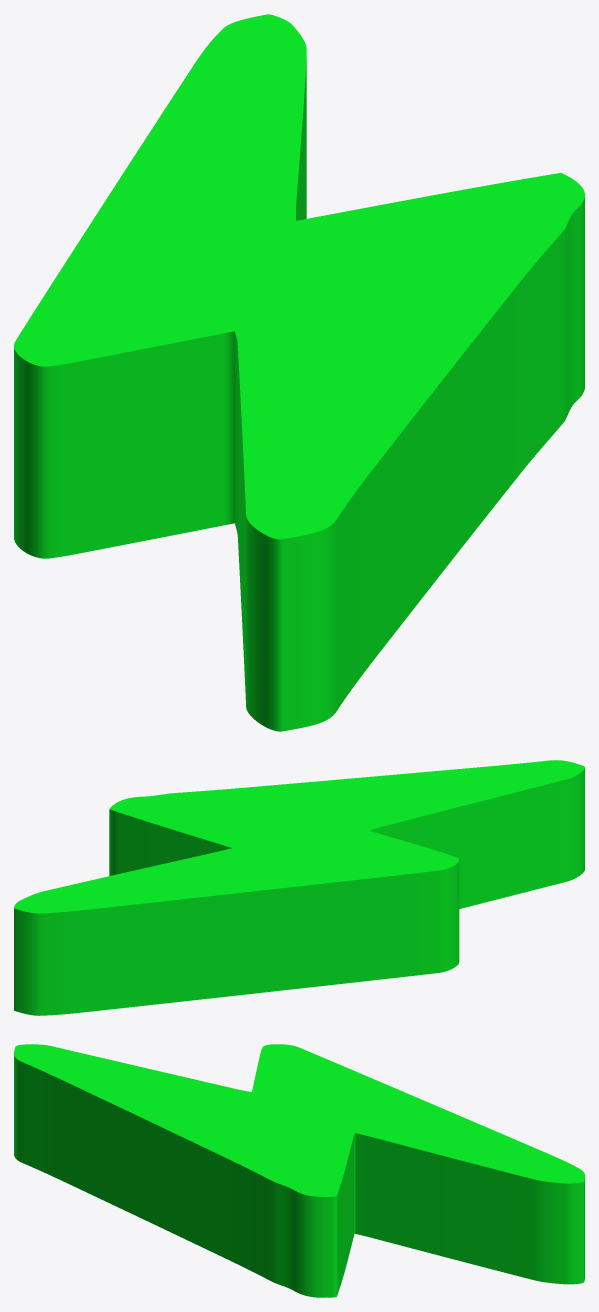
File: life_bank_icon.glb
3 renders of one model, top to bottom at view 1: azimuth 30°, elevation 25°; view 2: azimuth 150°, elevation 25°; view 3: azimuth 270°, elevation 25°, orthographic. The views are drawn at different scales.
Visible parts, largest first — view 1: charge; view 2: charge; view 3: charge.
Part boxes in pixels (x1=…): charge: x1=14, y1=14, x2=584, y2=731; charge: x1=14, y1=760, x2=584, y2=1015; charge: x1=14, y1=1044, x2=584, y2=1297.
Size of the model in its own units: 0.0325 by 0.01 by 0.0513.
